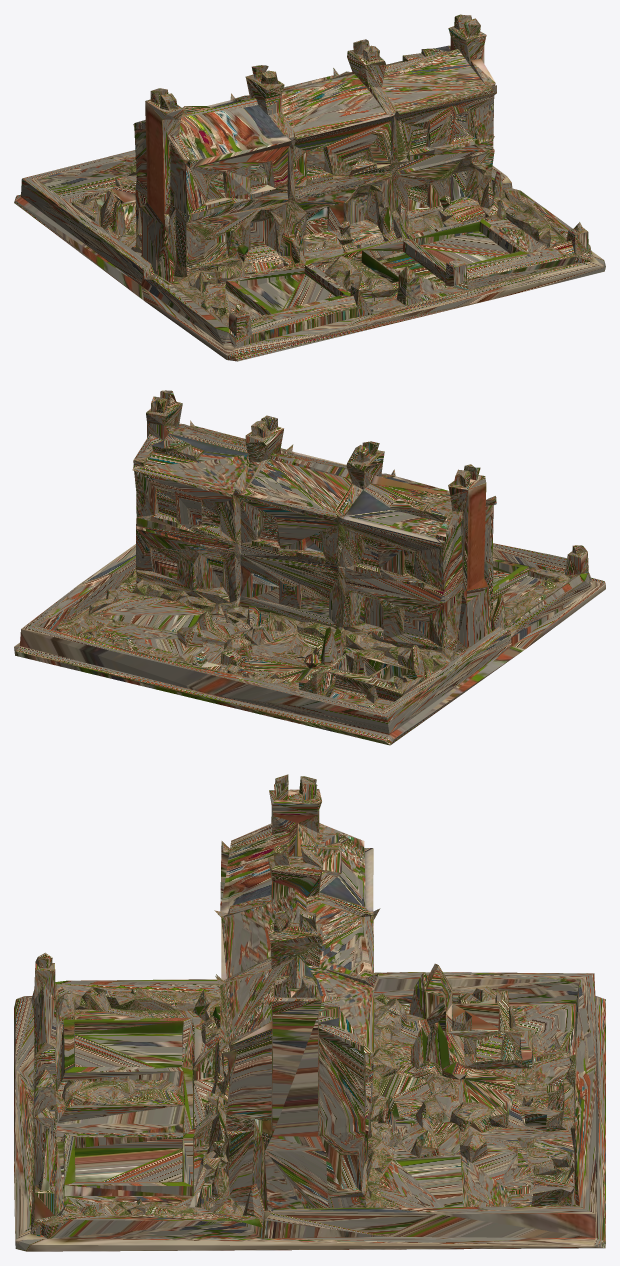
Rendered from town_townhouse_gardens_2.glb.
3 renders of one model, top to bottom at view 1: azimuth 30°, elevation 25°; view 2: azimuth 150°, elevation 25°; view 3: azimuth 270°, elevation 25°, orthographic. The views are drawn at different scales.
Visible parts, largest first — view 1: normalize; view 2: normalize; view 3: normalize.
Boxes of the visible parts, x1,y1,x2,y2 form: normalize: (14,14,605,361); normalize: (14,390,605,745); normalize: (14,774,605,1251).
Bounding box in the file's own units: 1 × 0.4655 × 0.999.
Materials: 1 (1 with a texture image).
